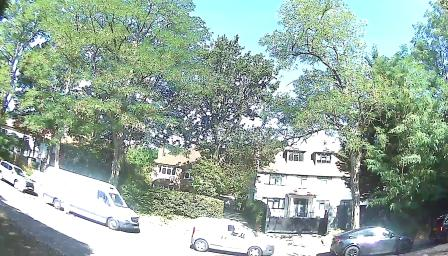Cars: (43, 165, 145, 238), (188, 217, 276, 254), (326, 230, 426, 256), (1, 158, 36, 200), (425, 213, 448, 239)
